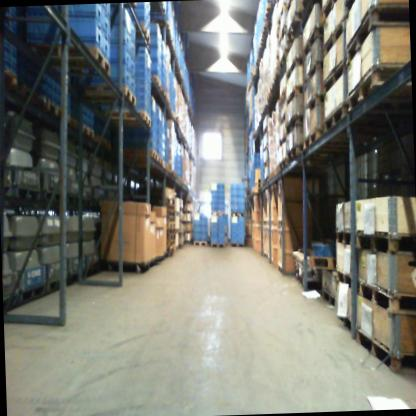pallet: (344, 6, 411, 58), (346, 63, 406, 114), (357, 329, 416, 371), (357, 275, 416, 316), (46, 44, 111, 78), (356, 230, 416, 255), (87, 82, 137, 107), (321, 102, 350, 140), (323, 59, 347, 95), (324, 18, 346, 55), (18, 280, 48, 306), (301, 60, 326, 90), (113, 112, 151, 130), (302, 27, 324, 57), (284, 13, 302, 44), (301, 128, 323, 153), (120, 149, 159, 163), (303, 253, 335, 270), (284, 57, 302, 84), (0, 64, 20, 88), (304, 93, 324, 116), (83, 123, 101, 148), (286, 113, 304, 138), (19, 85, 38, 108), (15, 185, 40, 202), (321, 0, 341, 21), (134, 22, 150, 46), (321, 287, 337, 310), (47, 275, 65, 295), (286, 85, 304, 105), (336, 268, 352, 288), (46, 99, 62, 119), (64, 190, 81, 207), (3, 293, 18, 312), (340, 311, 354, 331), (41, 190, 61, 204), (336, 229, 351, 246), (95, 131, 109, 149), (2, 186, 17, 201), (286, 146, 302, 160), (153, 75, 163, 91), (278, 111, 287, 127), (279, 158, 288, 171), (194, 239, 208, 247), (209, 242, 225, 249), (230, 242, 244, 249), (211, 210, 225, 217), (232, 211, 245, 218), (163, 89, 169, 103), (166, 197, 175, 205), (166, 241, 176, 247), (166, 229, 176, 235), (278, 264, 283, 275), (158, 156, 163, 167), (167, 235, 176, 241), (167, 223, 176, 229), (167, 217, 176, 223), (167, 211, 176, 217), (166, 205, 175, 211), (167, 246, 174, 253), (263, 160, 269, 168), (263, 177, 269, 185), (263, 252, 269, 260), (263, 143, 268, 152), (263, 219, 269, 226), (277, 219, 282, 226), (276, 165, 280, 173), (263, 128, 267, 135)
small_load_carrier: (59, 12, 103, 50), (63, 4, 102, 28), (107, 5, 131, 29), (112, 61, 130, 89), (108, 28, 131, 49), (113, 47, 132, 72), (101, 33, 114, 59), (129, 55, 138, 77), (129, 75, 139, 94), (101, 12, 109, 35), (129, 34, 136, 59), (237, 202, 247, 212), (229, 181, 239, 189), (230, 194, 238, 203), (194, 232, 202, 241), (230, 203, 238, 211), (238, 195, 246, 203), (238, 188, 246, 196), (237, 181, 245, 189), (201, 225, 208, 234), (229, 189, 239, 194), (193, 226, 200, 233), (201, 234, 207, 240)
